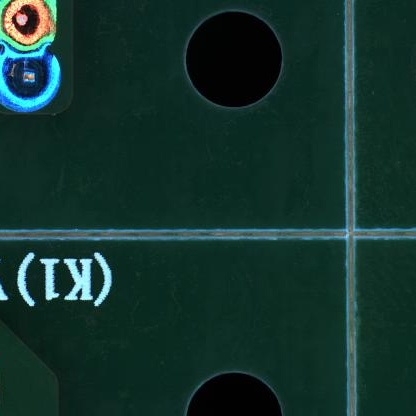spot: (1, 49, 61, 112)
